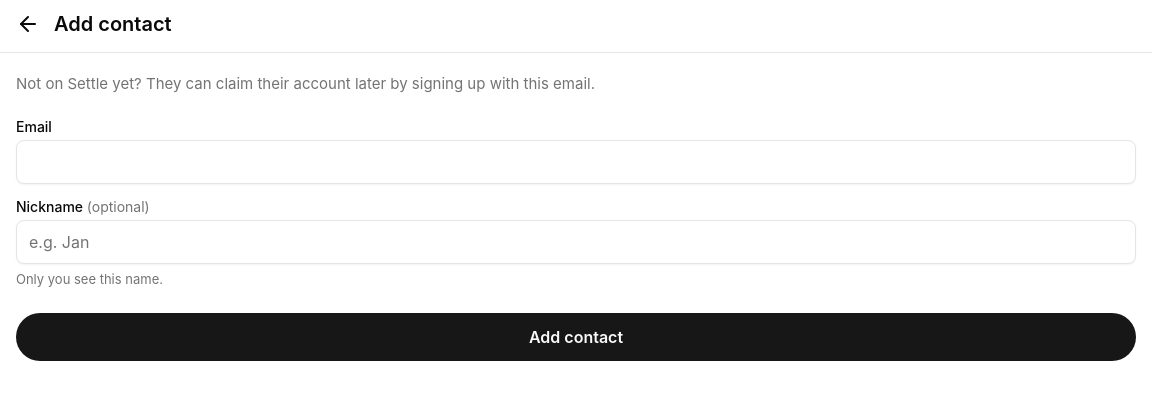
AddContactPage › shows a problem detail without violations under the email field
Type "me@example.com" into the field labelled "Email" at point(576, 162), box [16, 140, 1136, 184]
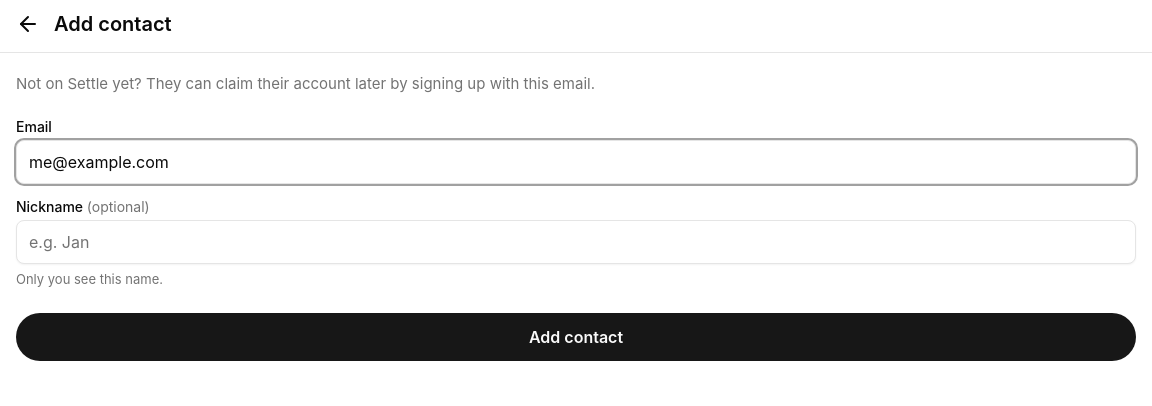
Click the button "Add contact" at point(576, 337), box [16, 313, 1136, 361]
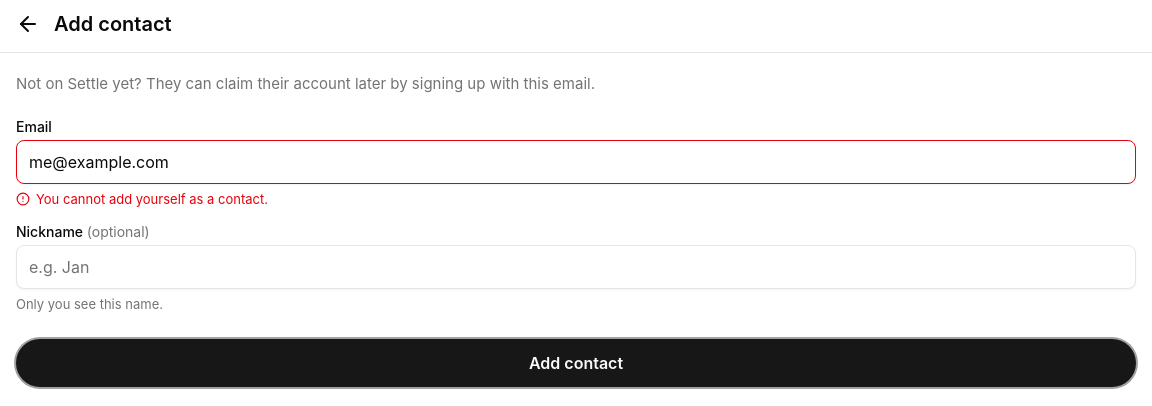
expect the text "You cannot add yourself as a contact." is shown: met, box [16, 190, 268, 206]
